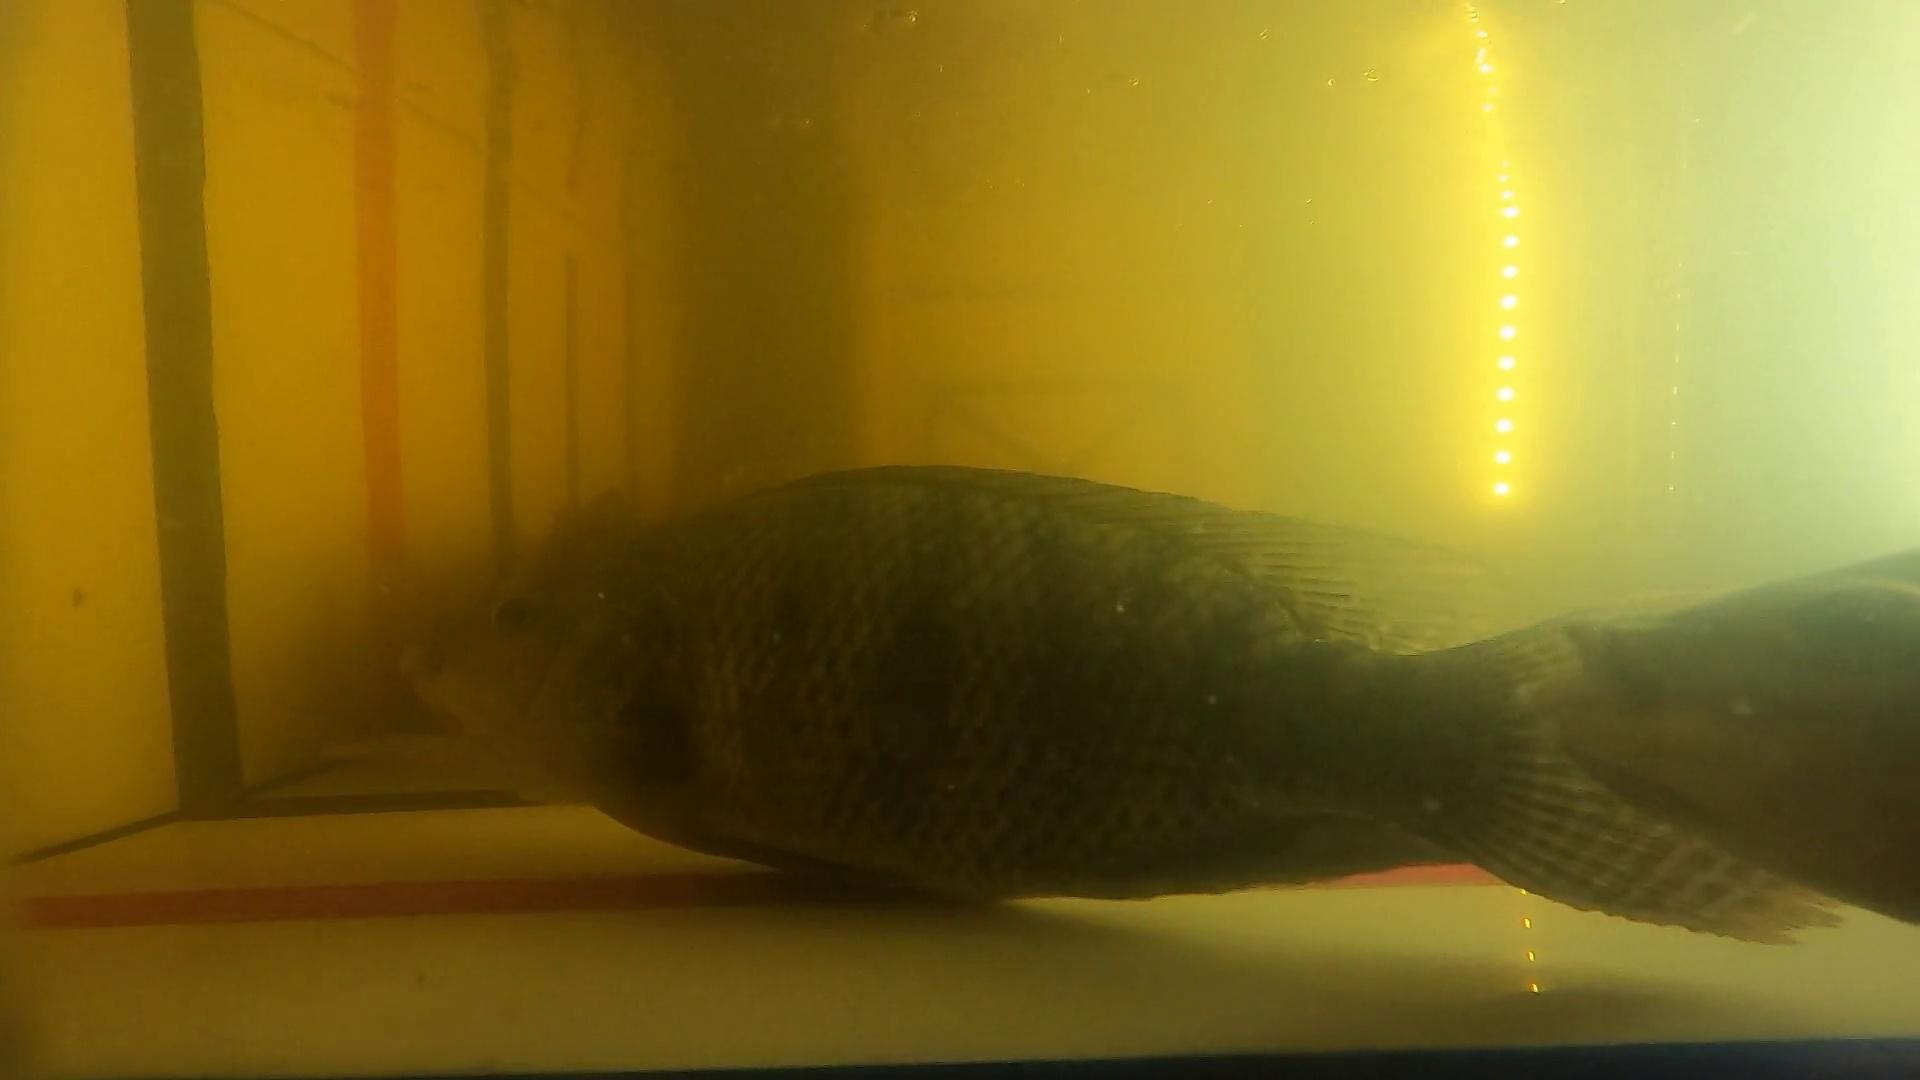Tilapia: (400, 467, 1920, 948)
